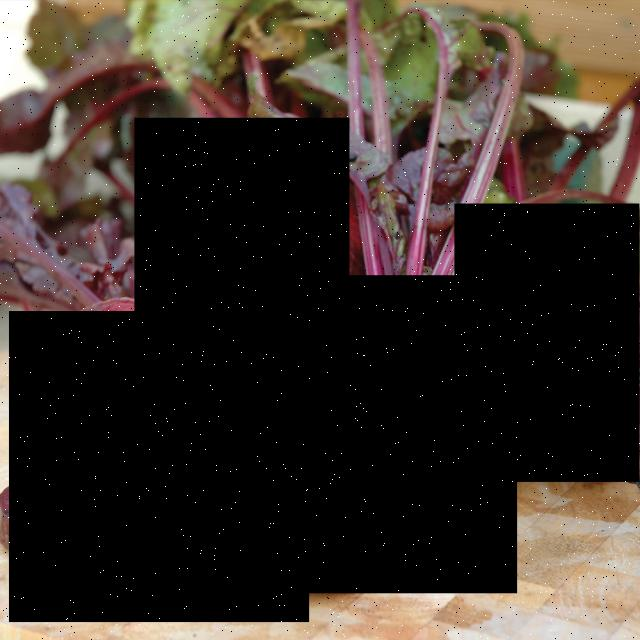Beetroot: (9, 311, 310, 622), (237, 276, 517, 594), (134, 118, 350, 361), (454, 203, 640, 482)
